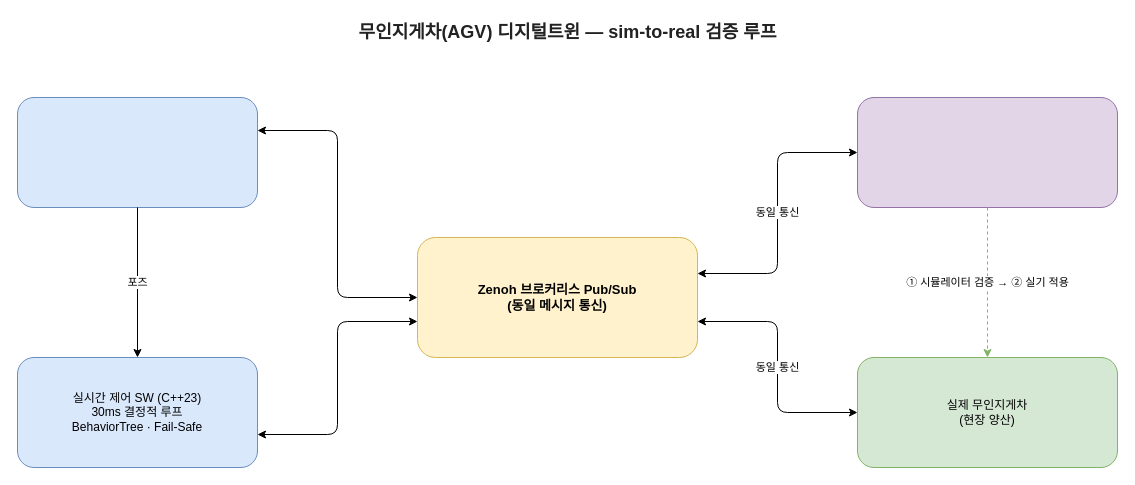
This 1135x485 diagram has some shape labels left out. The centre of each missing label's shape, as x and y in pixels:
Isaac Sim 디지털트윈 (가상 지게차 · 환경 · 물리): the point at 987,152
인식 ToF + RGB 센서융합 → DL 6-DOF 포즈: the point at 137,152
